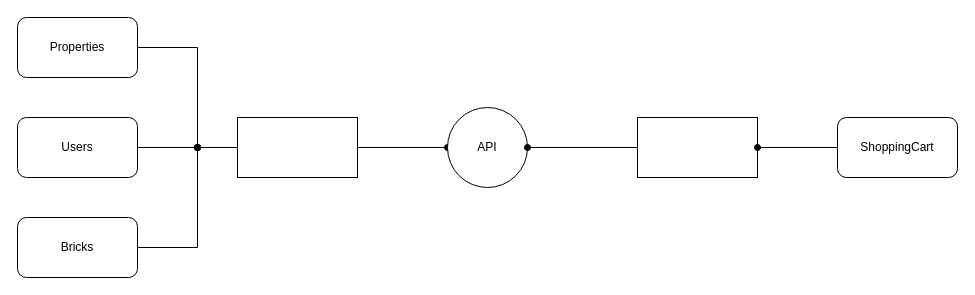
This 975x295 diagram has some shape labels left out. The shapes that lost their labels are listed below. From the top down, each one's centre as x and y in pixels, then its label:
At [297,147]: "Queries".
At [697,147]: "Actions".
